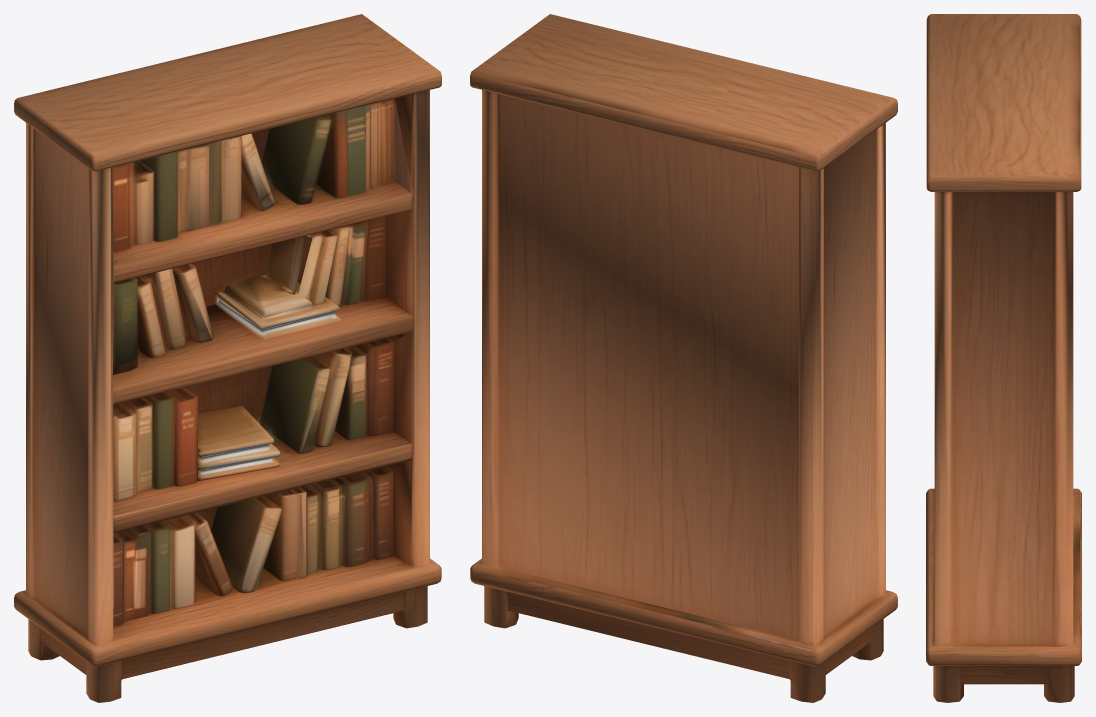
File: Furniture__a_wooden_bookshelf_10408603_v1.cluster.glb
3 views of the same model, side by side, from view 1: azimuth 30°, elevation 25°; view 2: azimuth 150°, elevation 25°; view 3: azimuth 270°, elevation 25° (orthographic). The views are drawn at different scales.
Parts seen in each view (by area): view 1: material; view 2: material; view 3: material.
Boxes of the visible parts, x1,y1,x2,y2 form: material: [14, 14, 441, 702]; material: [470, 14, 897, 702]; material: [926, 14, 1081, 702].
Size of the model in its own units: 1.26 by 1.9 by 0.5058.
Materials: 1 (1 with a texture image).
